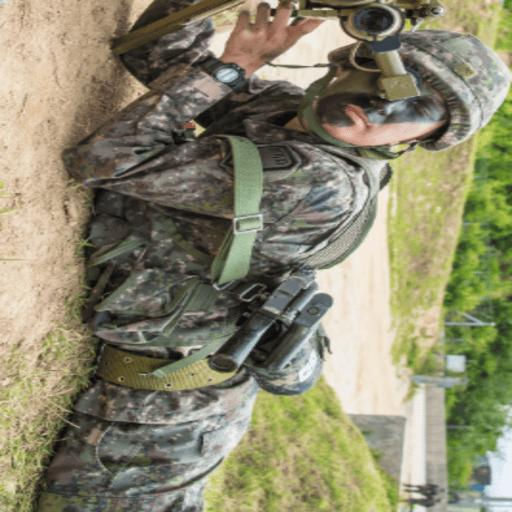korea army: (38, 6, 402, 508)
